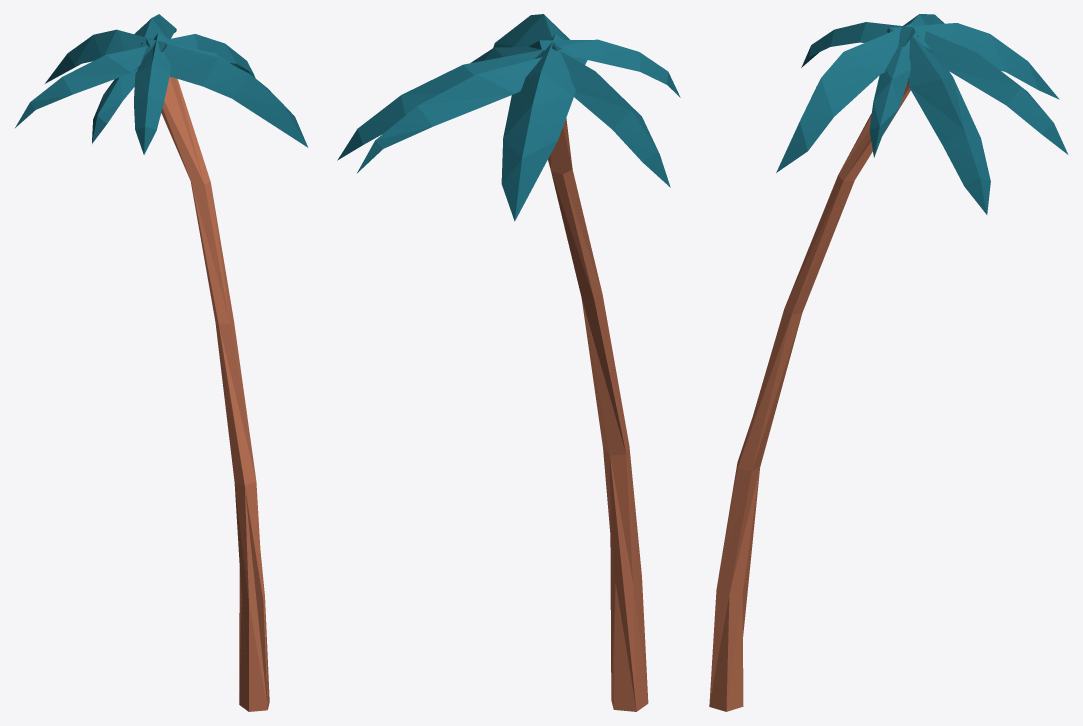
File: Tree_10_gradient_blue_vc.fbx
The picture shows the model from 3 angles, left to right: view 1: azimuth 30°, elevation 25°; view 2: azimuth 150°, elevation 25°; view 3: azimuth 270°, elevation 25°; orthographic projection. The views are drawn at different scales.
Parts seen in each view (by area): view 1: Tree_10_gradient_blue_vc; view 2: Tree_10_gradient_blue_vc; view 3: Tree_10_gradient_blue_vc.
Part boxes in pixels (x1,y1,x2,y2): Tree_10_gradient_blue_vc: [15, 14, 308, 711]; Tree_10_gradient_blue_vc: [337, 14, 680, 711]; Tree_10_gradient_blue_vc: [709, 14, 1068, 711].
Bounding box in the file's own units: 89.06 × 201 × 97.75.
